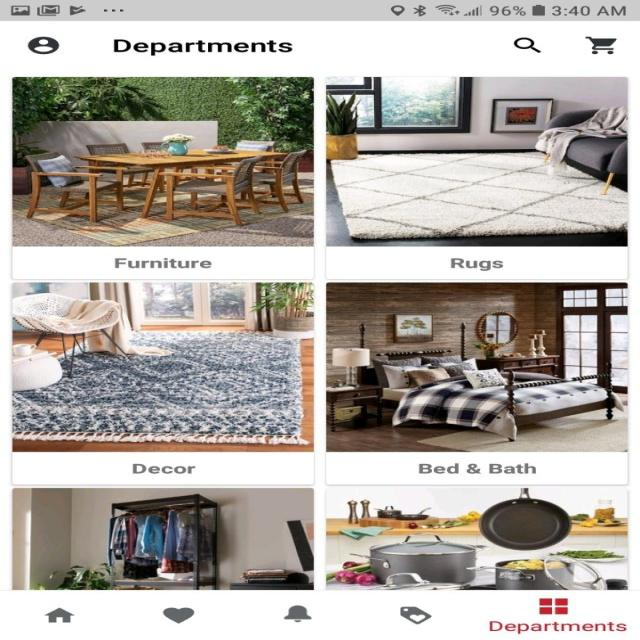Icon: (399, 605, 432, 624), (584, 36, 617, 55), (27, 36, 59, 55), (162, 607, 194, 624), (538, 598, 568, 615), (282, 605, 312, 622), (44, 607, 76, 622), (512, 38, 542, 53)
Image: (12, 76, 314, 247), (326, 76, 628, 247), (12, 282, 314, 451), (326, 282, 628, 451), (326, 486, 628, 590), (12, 487, 314, 590)
Text: (112, 40, 292, 56), (489, 620, 627, 634), (417, 462, 536, 473), (114, 258, 212, 268), (132, 463, 196, 474), (450, 258, 503, 271)
